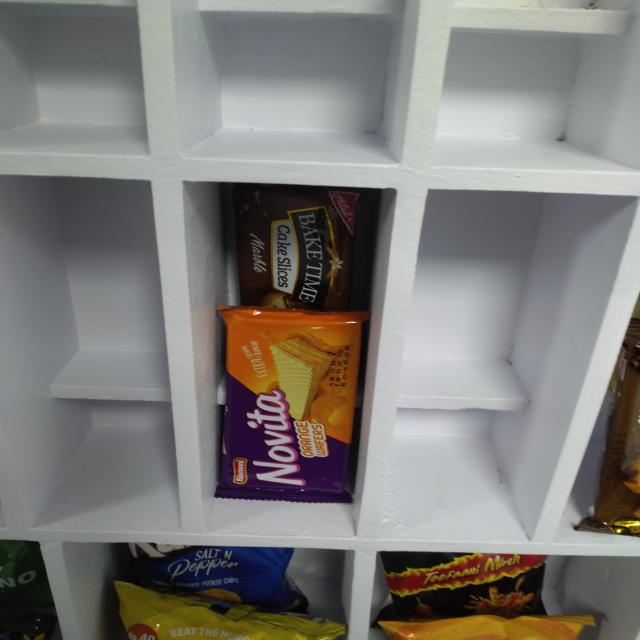Plastic: (212, 310, 356, 500), (231, 184, 362, 309), (380, 552, 548, 616), (107, 546, 301, 598), (116, 602, 342, 640), (593, 386, 640, 536), (378, 619, 596, 640)
